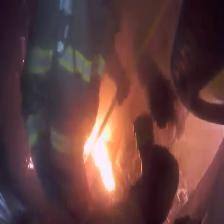fire: (80, 99, 121, 192)
